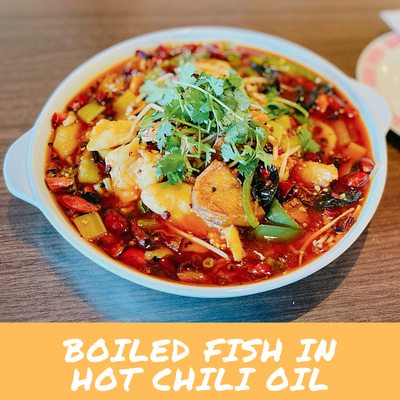sushi: (6, 20, 391, 301)
